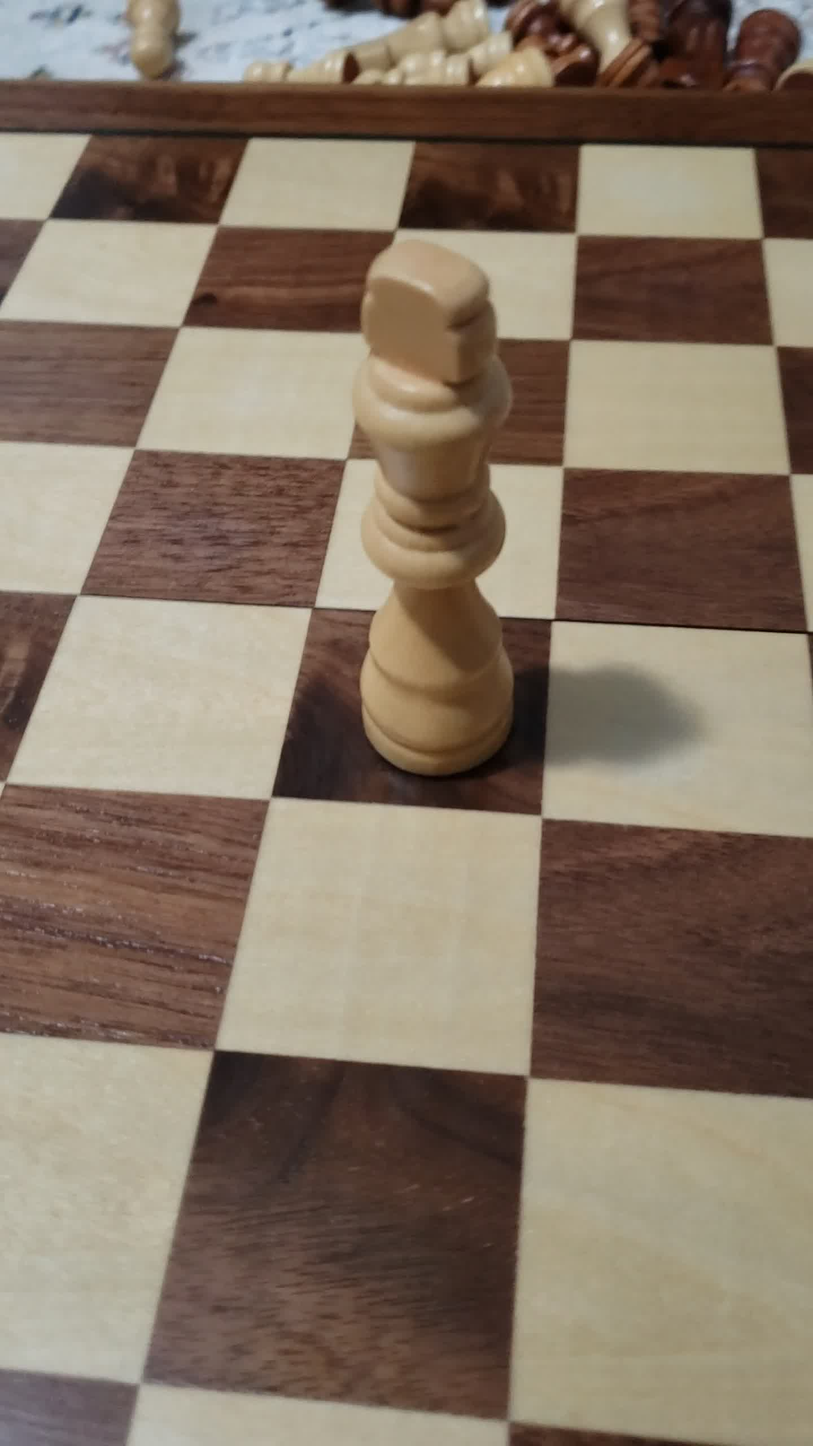white-king: (311, 232, 557, 807)
